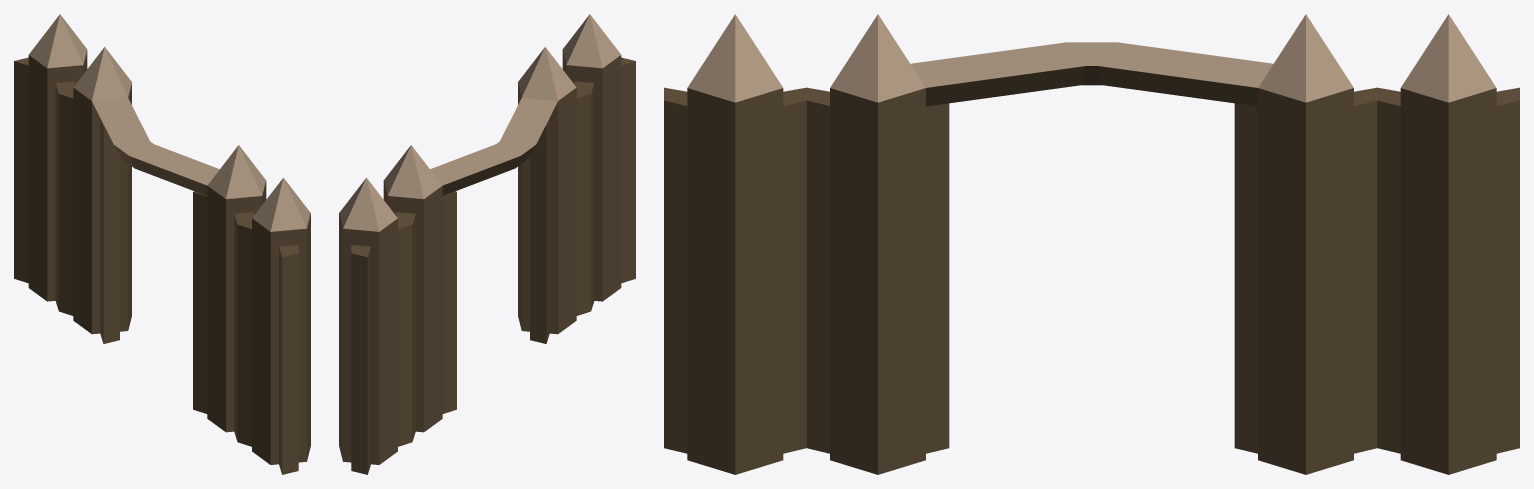
File: piked_gate.fbx
3 views of the same model, side by side, from view 1: azimuth 30°, elevation 25°; view 2: azimuth 150°, elevation 25°; view 3: azimuth 270°, elevation 25° (orthographic). The views are drawn at different scales.
Visible parts, largest first — view 1: Cylinder.005; view 2: Cylinder.005; view 3: Cylinder.005.
Part boxes in pixels (bbox=[...]): Cylinder.005: bbox=[14, 14, 310, 474]; Cylinder.005: bbox=[339, 14, 635, 474]; Cylinder.005: bbox=[664, 14, 1519, 474].
Size of the model in its own units: 100 by 340 by 600.
4 materials, 4 textured.
